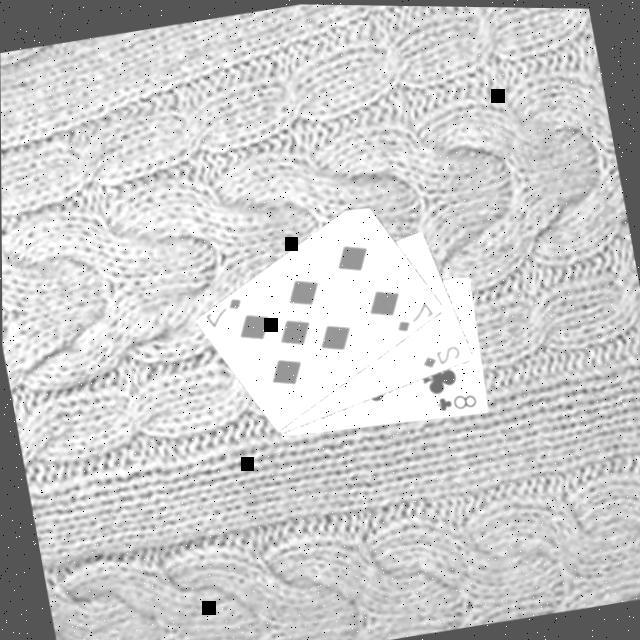2D: (415, 337, 462, 369)
7D: (387, 293, 436, 333), (199, 290, 248, 330)
8C: (430, 384, 479, 413)
